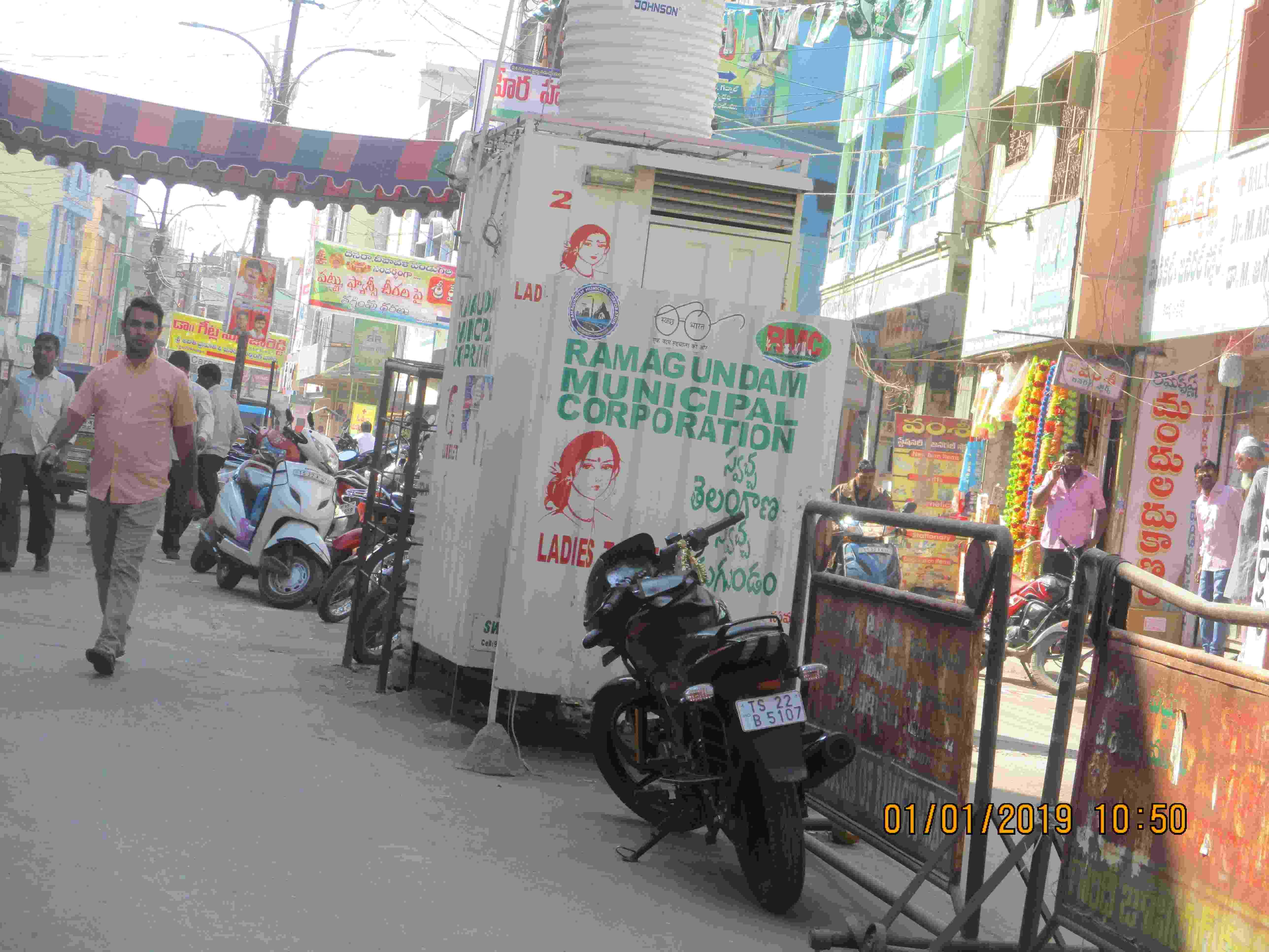plate: (733, 686, 817, 735)
